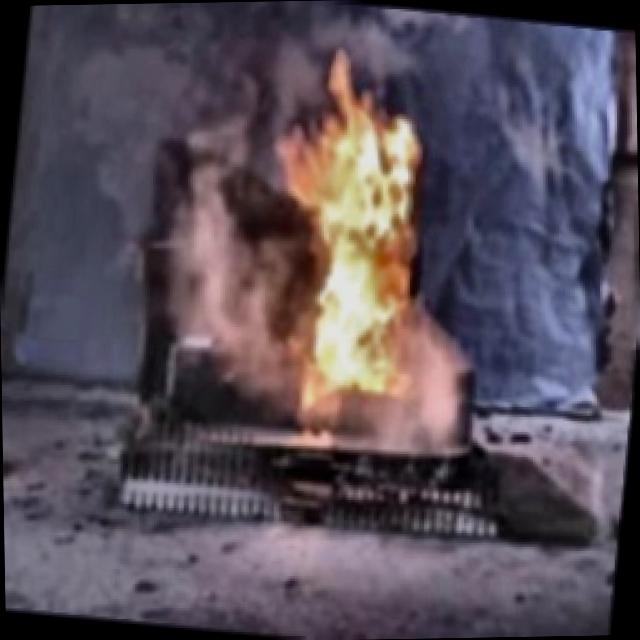fire: (234, 37, 463, 430)
